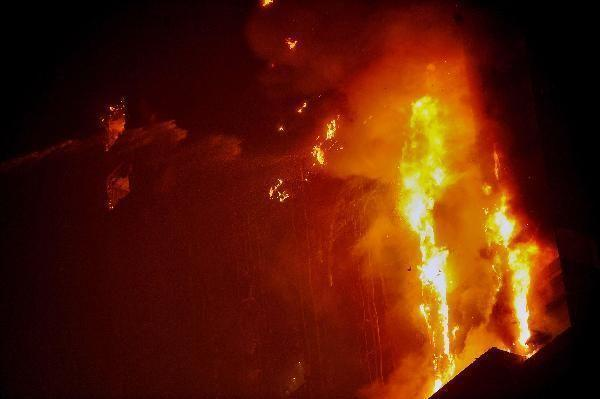fire: (385, 71, 547, 385), (250, 7, 348, 213)
